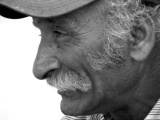male: (24, 16, 126, 116)
